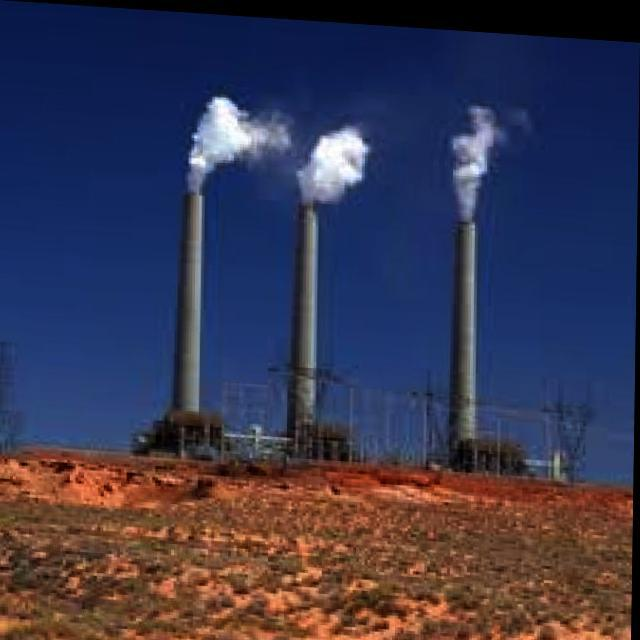Smoke: (185, 83, 291, 199), (438, 90, 528, 223), (283, 108, 381, 210)
